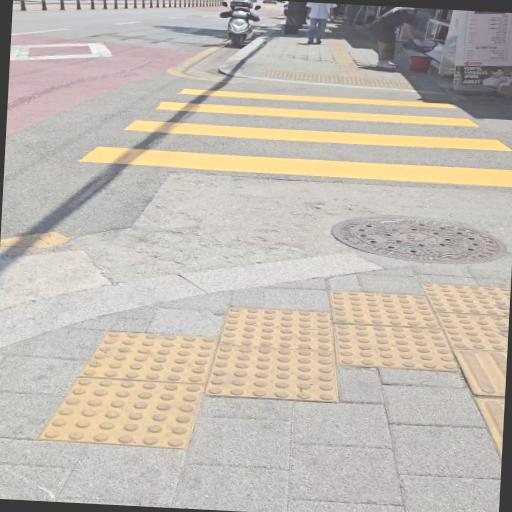yellow-crosswalk: (43, 68, 512, 195)
